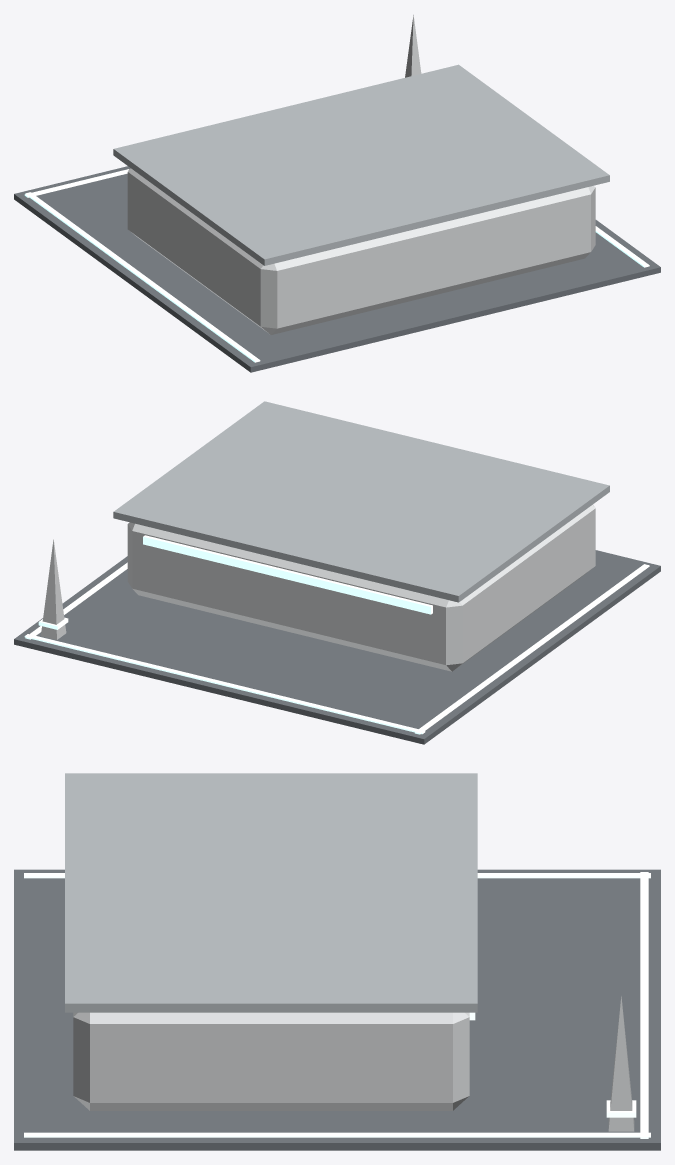
File: zone_low_6_t1.glb
The picture shows the model from 3 angles, top to bottom: view 1: azimuth 30°, elevation 25°; view 2: azimuth 150°, elevation 25°; view 3: azimuth 270°, elevation 25°; orthographic projection. The views are drawn at different scales.
Parts seen in each view (by area): view 1: zone_low_6_t1, detail; view 2: zone_low_6_t1, detail; view 3: zone_low_6_t1, detail.
Boxes of the visible parts, x1=… form: zone_low_6_t1: x1=14, y1=64, x2=660, y2=372; detail: x1=24, y1=15, x2=649, y2=362; zone_low_6_t1: x1=14, y1=401, x2=660, y2=744; detail: x1=24, y1=539, x2=649, y2=734; zone_low_6_t1: x1=14, y1=773, x2=660, y2=1150; detail: x1=24, y1=872, x2=650, y2=1138.
Size of the model in its own units: 19.6 by 4.65 by 19.6.
